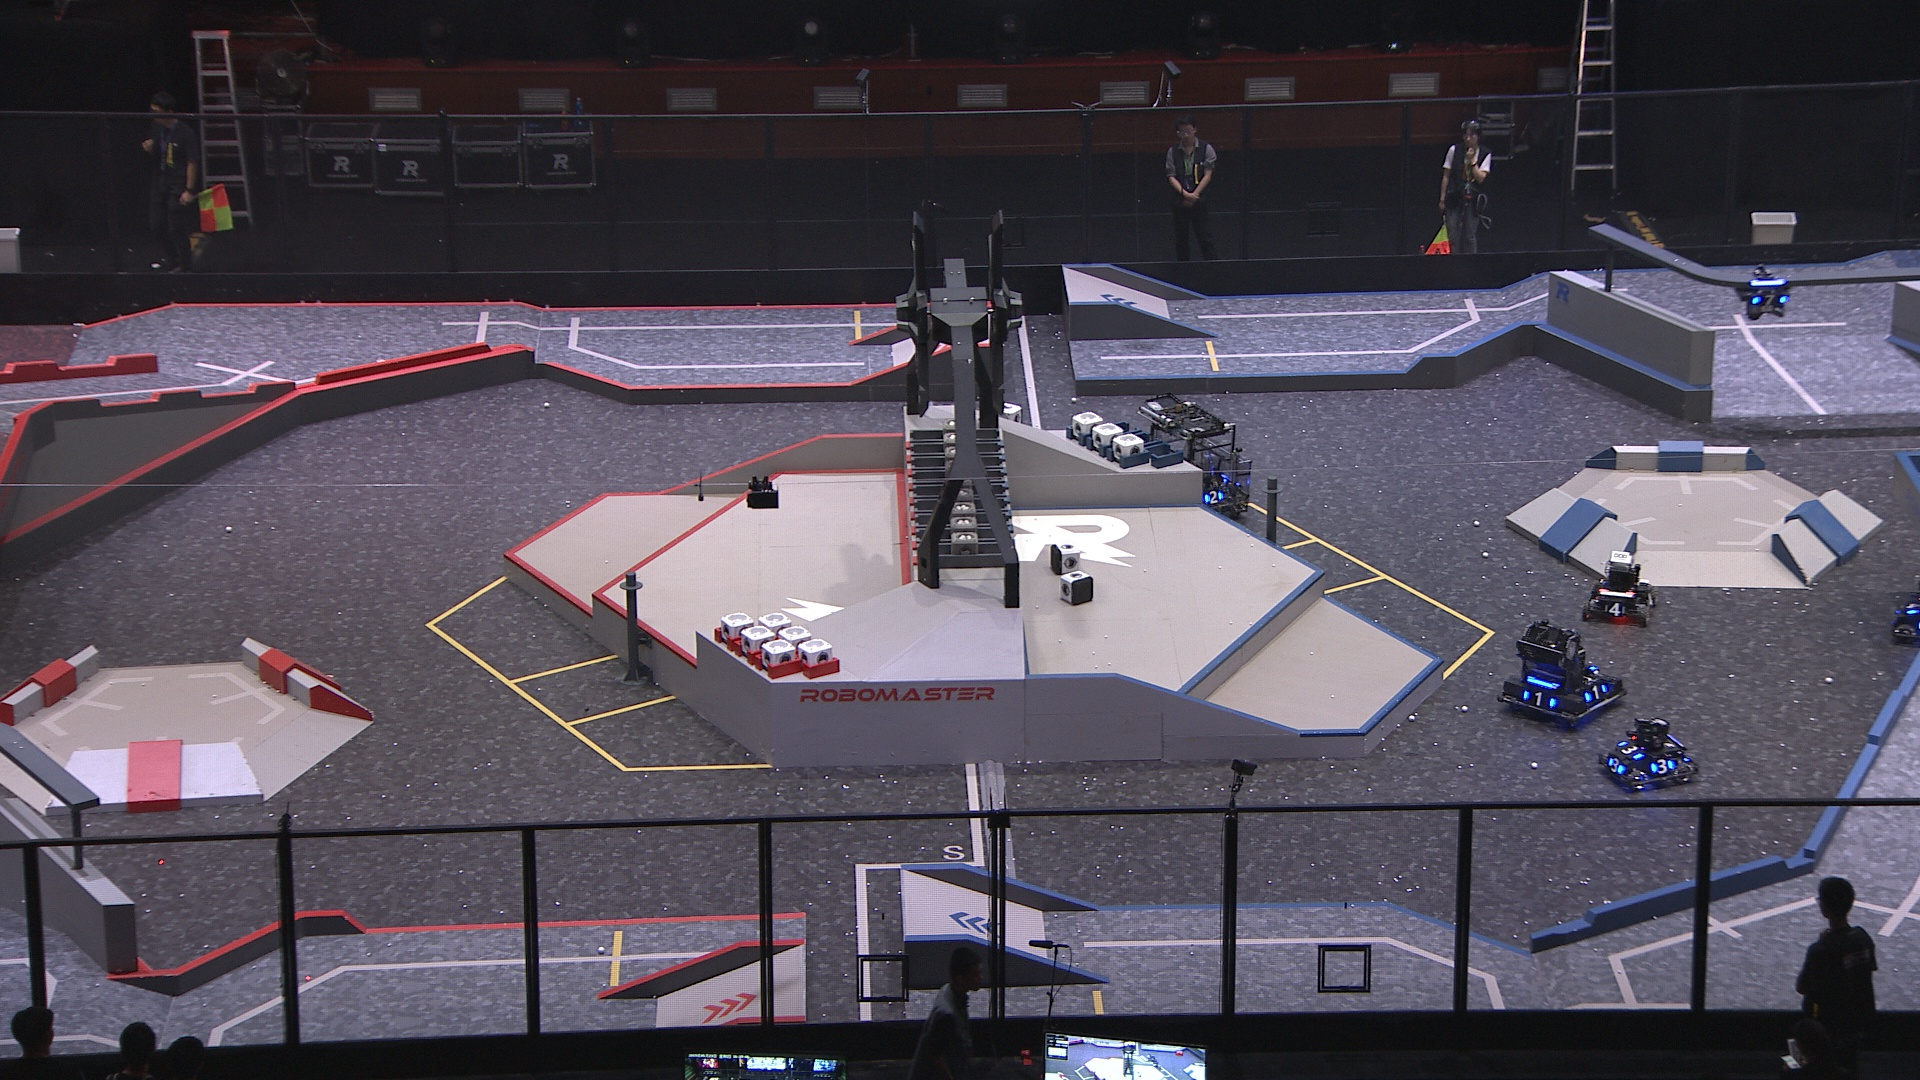armor: (1520, 687, 1556, 709), (1584, 684, 1607, 708), (1646, 760, 1675, 778), (1619, 740, 1644, 760), (1753, 291, 1788, 305), (1605, 600, 1629, 618), (1578, 669, 1600, 688), (1607, 754, 1623, 778), (1205, 491, 1224, 505), (1907, 597, 1917, 616)
car: (1131, 386, 1254, 522), (1499, 621, 1625, 728), (1598, 712, 1695, 794), (1582, 555, 1656, 626), (1890, 566, 1920, 655)
watcher: (1741, 262, 1795, 322)
